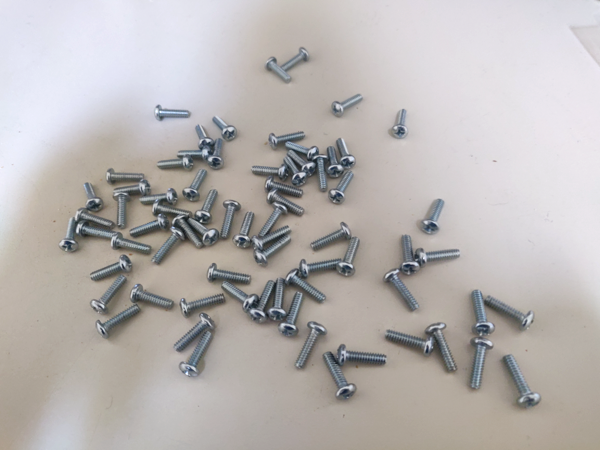shortscrew: (503, 354, 542, 409), (484, 295, 535, 331), (425, 323, 459, 374), (323, 351, 357, 401), (174, 313, 216, 353), (96, 304, 141, 340), (179, 331, 213, 378), (295, 322, 328, 369), (384, 268, 420, 311), (285, 268, 327, 304), (385, 329, 436, 358), (90, 276, 128, 314), (152, 227, 185, 267), (470, 338, 495, 390), (310, 222, 352, 252), (254, 235, 292, 268), (221, 281, 259, 314), (172, 214, 205, 250), (278, 292, 304, 337), (180, 293, 225, 319), (130, 284, 174, 310), (90, 255, 132, 282), (472, 290, 496, 337), (259, 202, 289, 239), (337, 345, 387, 367), (267, 189, 305, 217), (252, 226, 292, 251), (207, 263, 252, 285), (336, 237, 360, 277), (129, 214, 169, 238), (187, 217, 220, 246), (415, 248, 460, 269), (111, 233, 152, 255), (265, 176, 304, 199), (220, 200, 242, 240), (75, 208, 115, 230), (329, 170, 354, 205), (421, 199, 445, 235), (299, 259, 342, 279), (195, 189, 218, 225), (183, 169, 208, 202), (233, 212, 255, 249), (288, 150, 317, 178), (401, 235, 421, 275), (284, 156, 309, 187), (331, 94, 364, 117), (269, 131, 306, 151), (265, 57, 292, 84), (140, 188, 178, 207), (59, 217, 79, 253), (83, 182, 105, 213), (286, 142, 320, 162), (212, 116, 238, 142), (153, 200, 192, 217), (106, 168, 145, 185), (78, 220, 112, 239), (282, 48, 310, 71), (252, 164, 289, 181), (114, 180, 151, 197), (114, 192, 131, 229), (337, 138, 356, 171), (313, 154, 329, 193), (327, 146, 345, 179), (157, 155, 194, 171), (154, 105, 191, 121), (178, 145, 212, 161), (208, 139, 225, 170), (196, 125, 216, 151), (392, 109, 409, 139)
